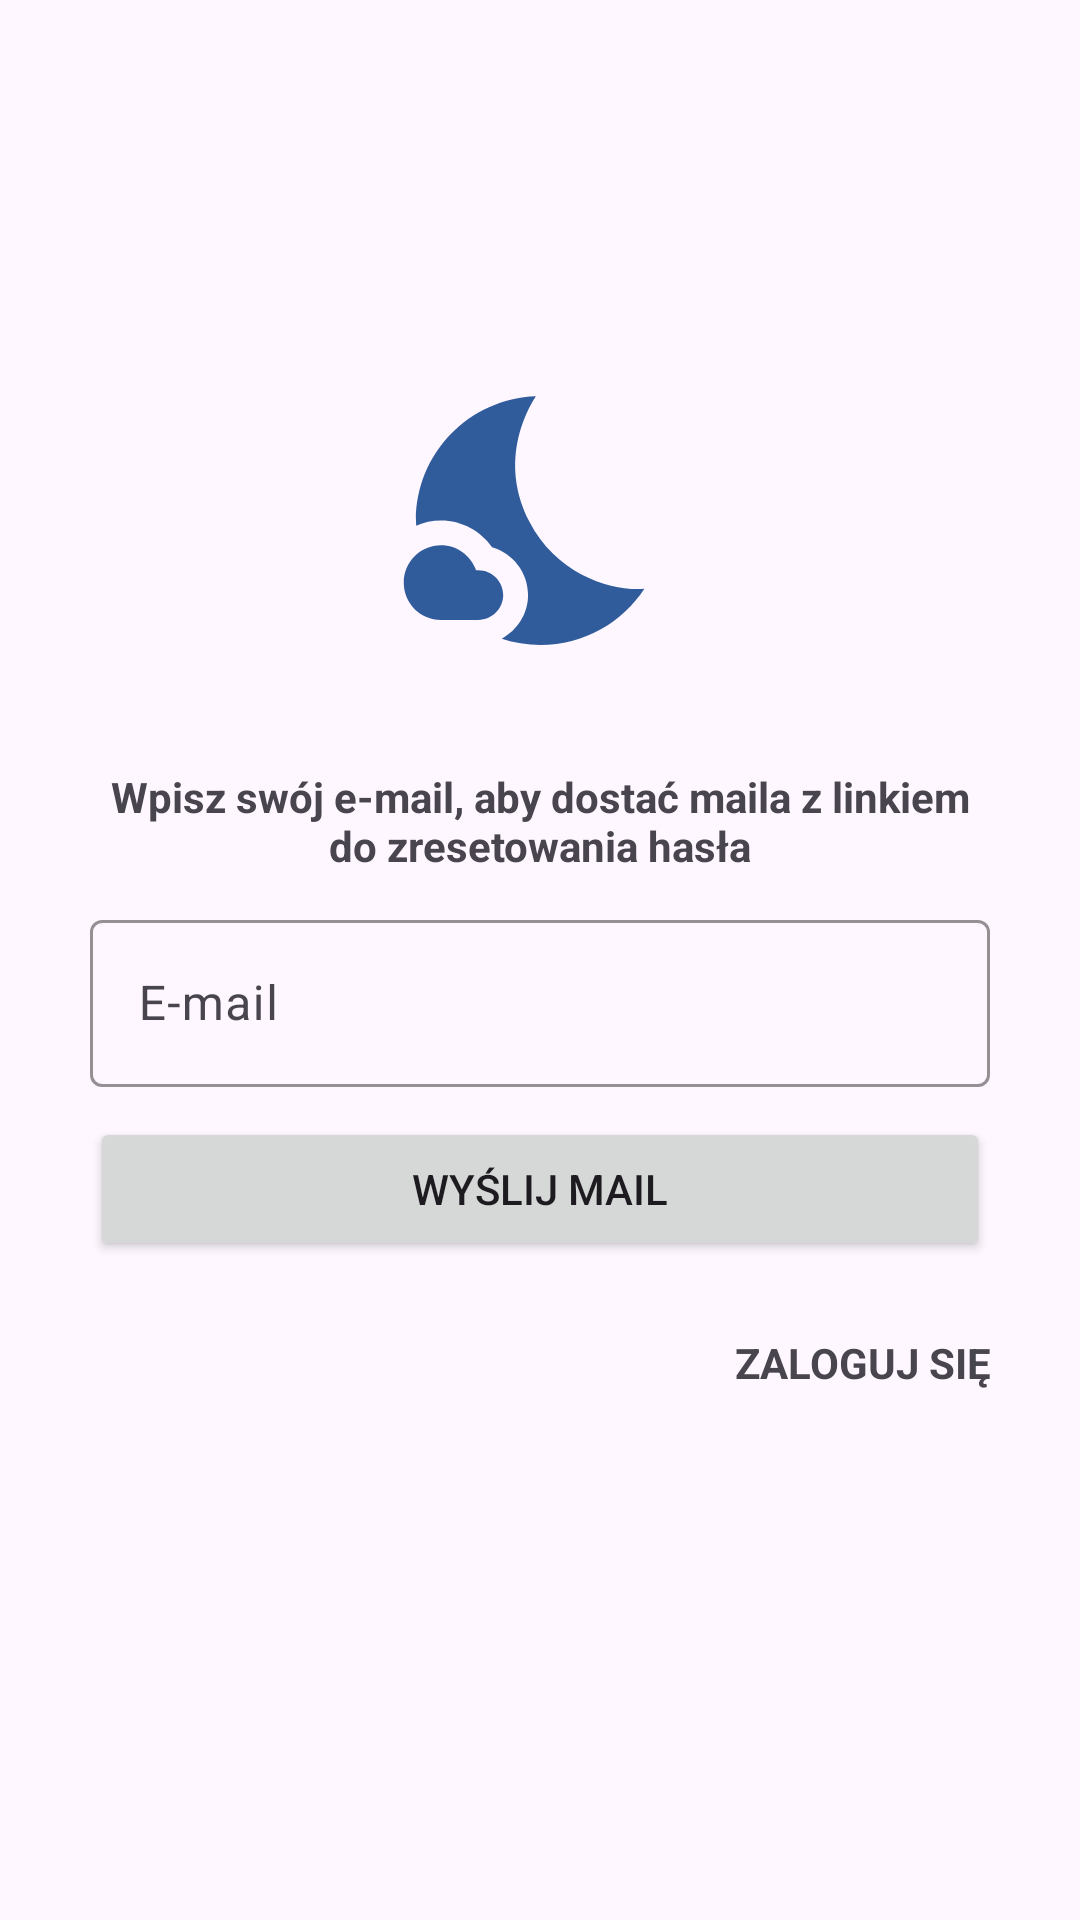

Named icons in this screenshot (1080x1920) and their centers, (x=x, y=y):
night: (x=523, y=520)
